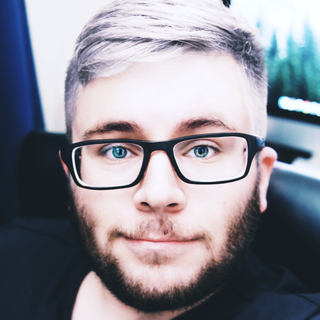eye: (95, 140, 143, 164), (179, 140, 222, 162)
